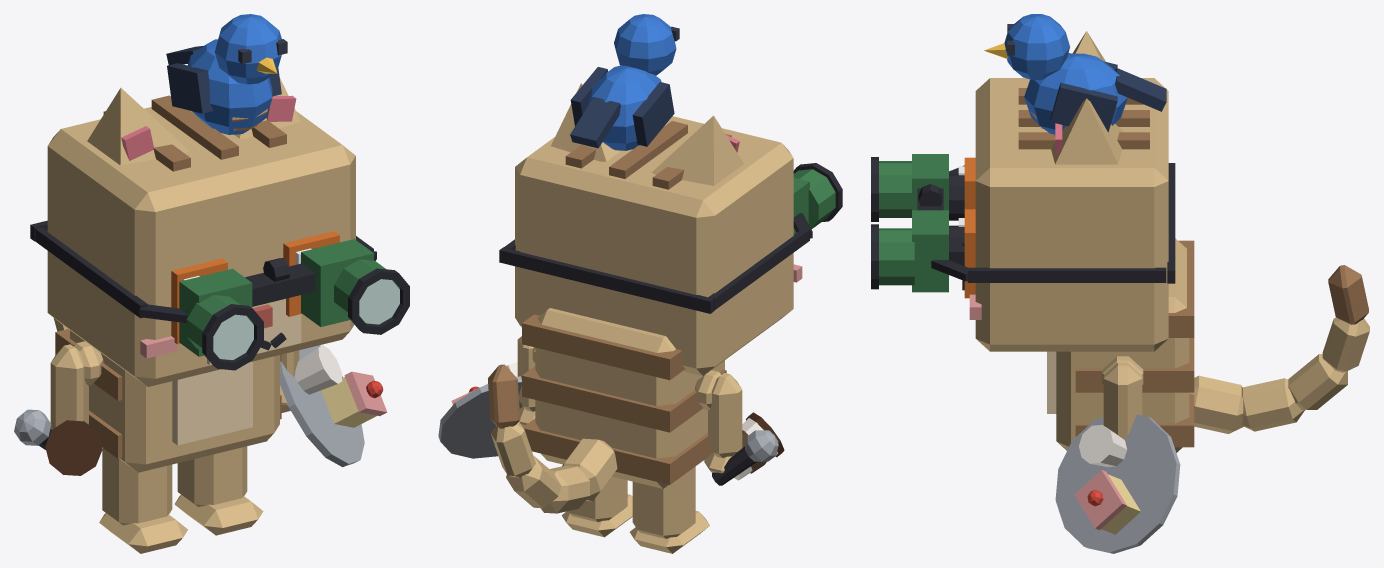
Rendered from CatCafe_Cat_Birdwatch_Work.glb.
The picture shows the model from 3 angles, left to right: view 1: azimuth 30°, elevation 25°; view 2: azimuth 150°, elevation 25°; view 3: azimuth 270°, elevation 25°; orthographic projection. The views are drawn at different scales.
Visible parts, largest first — view 1: CatCafe_Cat_Birdwatch_Work_Head, CatCafe_Cat_Birdwatch_Work_Body, CatCafe_Cat_Birdwatch_Work_Prop, CatCafe_Cat_Birdwatch_Work_Prop2, CatCafe_Cat_Birdwatch_Work_Held_Waiter, CatCafe_Cat_Birdwatch_Work_LegB2, CatCafe_Cat_Birdwatch_Work_LegB1, CatCafe_Cat_Birdwatch_Work_EarR, CatCafe_Cat_Birdwatch_Work_Prop_Glass, CatCafe_Cat_Birdwatch_Work_LegF2, CatCafe_Cat_Birdwatch_Work_Held_Barista, CatCafe_Cat_Birdwatch_Work_Eye1 (+3 smaller); view 2: CatCafe_Cat_Birdwatch_Work_Head, CatCafe_Cat_Birdwatch_Work_Body, CatCafe_Cat_Birdwatch_Work_Prop2, CatCafe_Cat_Birdwatch_Work_Tail, CatCafe_Cat_Birdwatch_Work_Prop, CatCafe_Cat_Birdwatch_Work_LegB2, CatCafe_Cat_Birdwatch_Work_Held_Waiter, CatCafe_Cat_Birdwatch_Work_EarR, CatCafe_Cat_Birdwatch_Work_LegF2, CatCafe_Cat_Birdwatch_Work_LegB1, CatCafe_Cat_Birdwatch_Work_Held_Entertainer, CatCafe_Cat_Birdwatch_Work_EarL (+2 smaller); view 3: CatCafe_Cat_Birdwatch_Work_Head, CatCafe_Cat_Birdwatch_Work_Prop, CatCafe_Cat_Birdwatch_Work_Held_Waiter, CatCafe_Cat_Birdwatch_Work_Body, CatCafe_Cat_Birdwatch_Work_Tail, CatCafe_Cat_Birdwatch_Work_Prop2, CatCafe_Cat_Birdwatch_Work_EarL, CatCafe_Cat_Birdwatch_Work_LegF1, CatCafe_Cat_Birdwatch_Work_Eye1, CatCafe_Cat_Birdwatch_Work_Eye2.
Boxes of the visible parts, bbox=[...] form: CatCafe_Cat_Birdwatch_Work_Head: bbox=[47, 95, 355, 386]; CatCafe_Cat_Birdwatch_Work_Body: bbox=[55, 329, 281, 472]; CatCafe_Cat_Birdwatch_Work_Prop: bbox=[30, 220, 409, 370]; CatCafe_Cat_Birdwatch_Work_Prop2: bbox=[166, 14, 287, 134]; CatCafe_Cat_Birdwatch_Work_Held_Waiter: bbox=[280, 345, 387, 467]; CatCafe_Cat_Birdwatch_Work_LegB2: bbox=[99, 448, 187, 553]; CatCafe_Cat_Birdwatch_Work_LegB1: bbox=[174, 446, 263, 535]; CatCafe_Cat_Birdwatch_Work_EarR: bbox=[87, 87, 189, 165]; CatCafe_Cat_Birdwatch_Work_Prop_Glass: bbox=[213, 279, 399, 359]; CatCafe_Cat_Birdwatch_Work_LegF2: bbox=[50, 344, 88, 429]; CatCafe_Cat_Birdwatch_Work_Held_Barista: bbox=[45, 420, 102, 475]; CatCafe_Cat_Birdwatch_Work_Eye1: bbox=[283, 231, 339, 316]; CatCafe_Cat_Birdwatch_Work_Head: bbox=[515, 116, 802, 375]; CatCafe_Cat_Birdwatch_Work_Body: bbox=[522, 308, 726, 488]; CatCafe_Cat_Birdwatch_Work_Prop2: bbox=[570, 14, 679, 150]; CatCafe_Cat_Birdwatch_Work_Tail: bbox=[488, 364, 617, 513]; CatCafe_Cat_Birdwatch_Work_Prop: bbox=[499, 163, 842, 313]; CatCafe_Cat_Birdwatch_Work_LegB2: bbox=[630, 466, 709, 553]; CatCafe_Cat_Birdwatch_Work_Held_Waiter: bbox=[438, 362, 522, 458]; CatCafe_Cat_Birdwatch_Work_EarR: bbox=[651, 115, 743, 185]; CatCafe_Cat_Birdwatch_Work_LegF2: bbox=[704, 373, 742, 473]; CatCafe_Cat_Birdwatch_Work_LegB1: bbox=[562, 476, 632, 537]; CatCafe_Cat_Birdwatch_Work_Held_Entertainer: bbox=[712, 430, 778, 485]; CatCafe_Cat_Birdwatch_Work_EarL: bbox=[551, 83, 620, 161]; CatCafe_Cat_Birdwatch_Work_Head: bbox=[969, 78, 1168, 351]; CatCafe_Cat_Birdwatch_Work_Prop: bbox=[871, 154, 1175, 292]; CatCafe_Cat_Birdwatch_Work_Held_Waiter: bbox=[1055, 414, 1180, 553]; CatCafe_Cat_Birdwatch_Work_Body: bbox=[1047, 238, 1194, 452]; CatCafe_Cat_Birdwatch_Work_Tail: bbox=[1189, 265, 1369, 433]; CatCafe_Cat_Birdwatch_Work_Prop2: bbox=[984, 14, 1166, 134]; CatCafe_Cat_Birdwatch_Work_EarL: bbox=[1051, 98, 1123, 164]; CatCafe_Cat_Birdwatch_Work_LegF1: bbox=[1103, 362, 1142, 439]; CatCafe_Cat_Birdwatch_Work_Eye1: bbox=[958, 209, 975, 298]; CatCafe_Cat_Birdwatch_Work_Eye2: bbox=[958, 157, 975, 209].
Bounding box in the file's own units: 1.53 × 2.19 × 1.96.
Materials: 1 (1 with a texture image).
